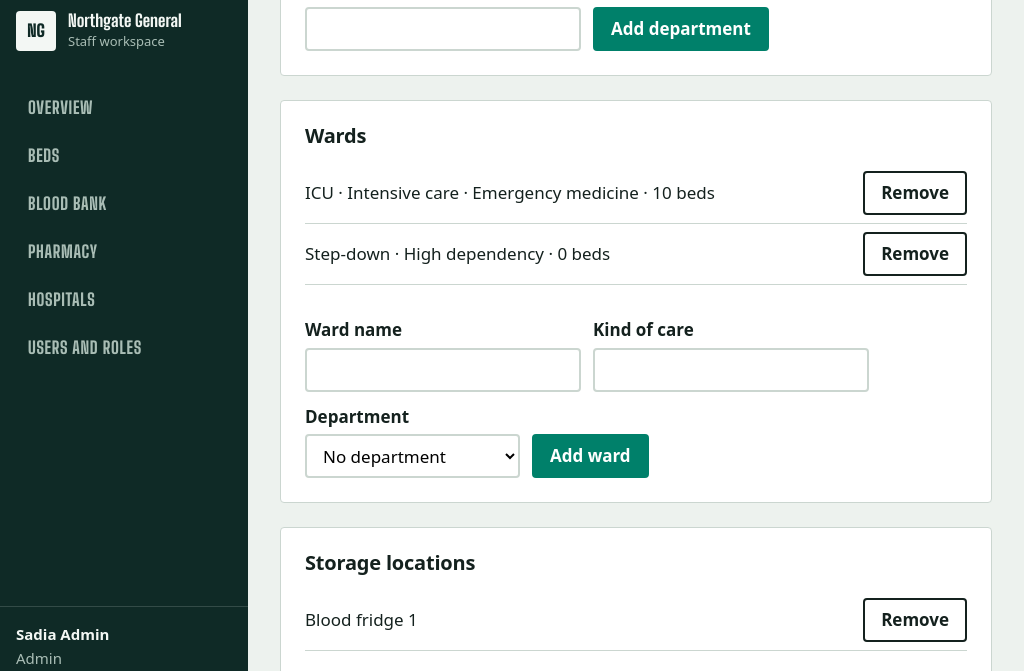
Test: HospitalDetailPage (stories 1.3 Hospital structure and capability profile) › sends the ward with its department and shows the server’s duplicate-name message on the field
(page scrolled)
Type "icu" into the field labelled "Ward name". click: (443, 370)
box: x1=305 y1=348 x2=581 y2=392
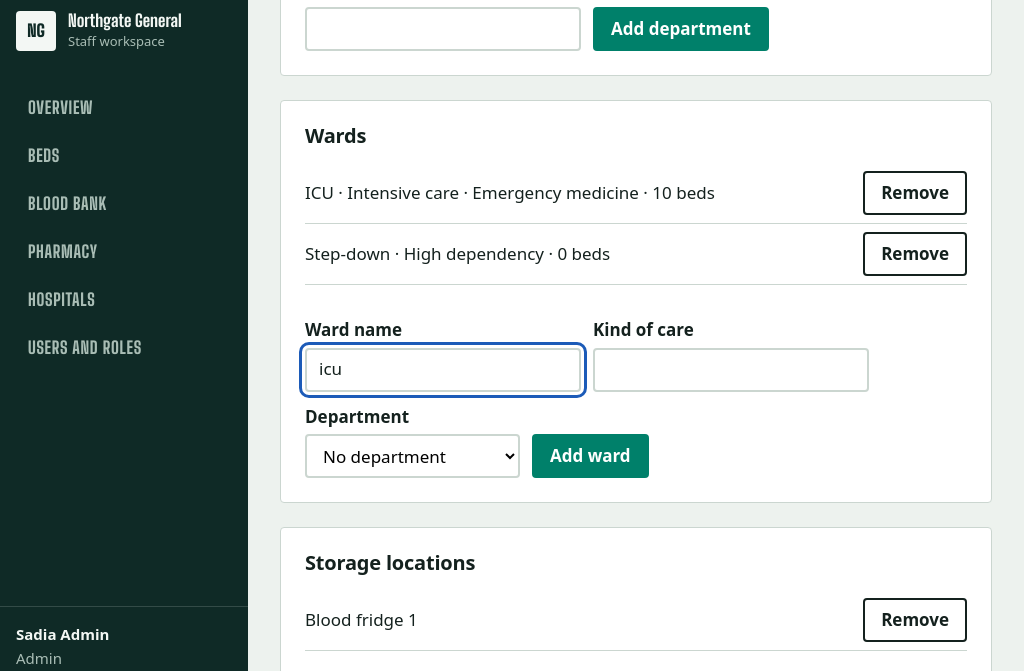
Type "Intensive care" into the field labelled "Kind of care". click: (731, 370)
box: x1=593 y1=348 x2=869 y2=392
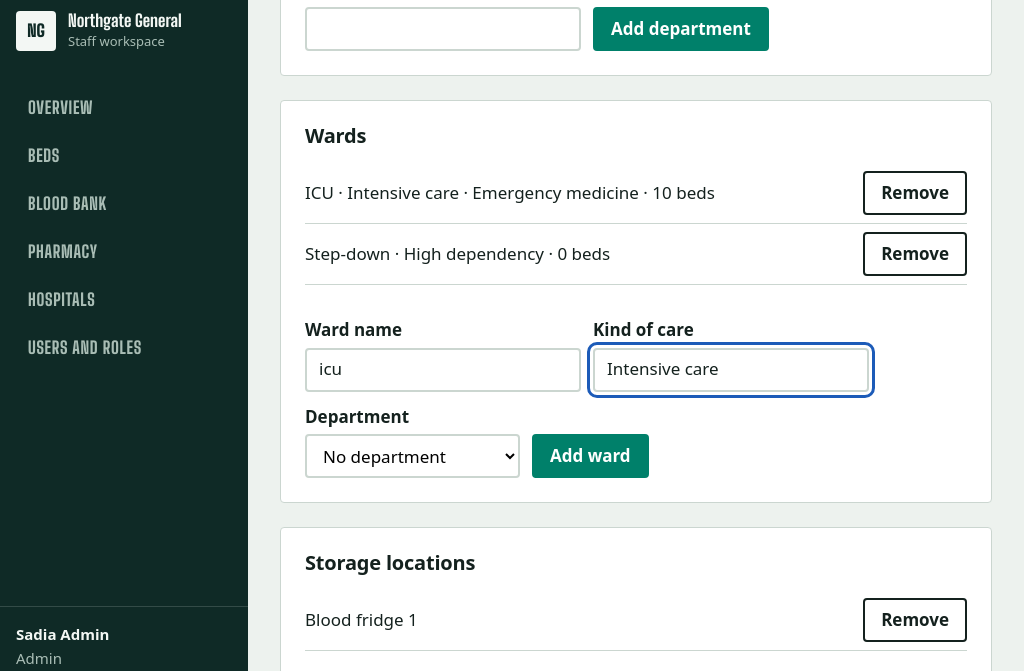
Select "Surgery" in the dropdown labelled "Department". click: (412, 456)
box: x1=305 y1=434 x2=520 y2=478
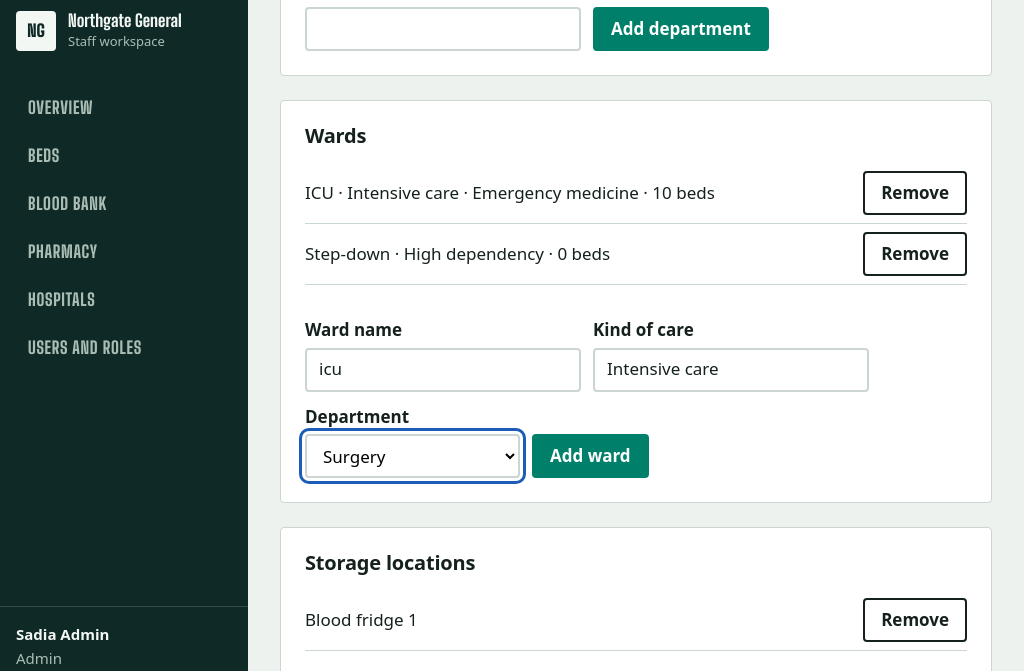
Click the button "Add ward". click: (590, 456)
box: x1=532 y1=434 x2=649 y2=478
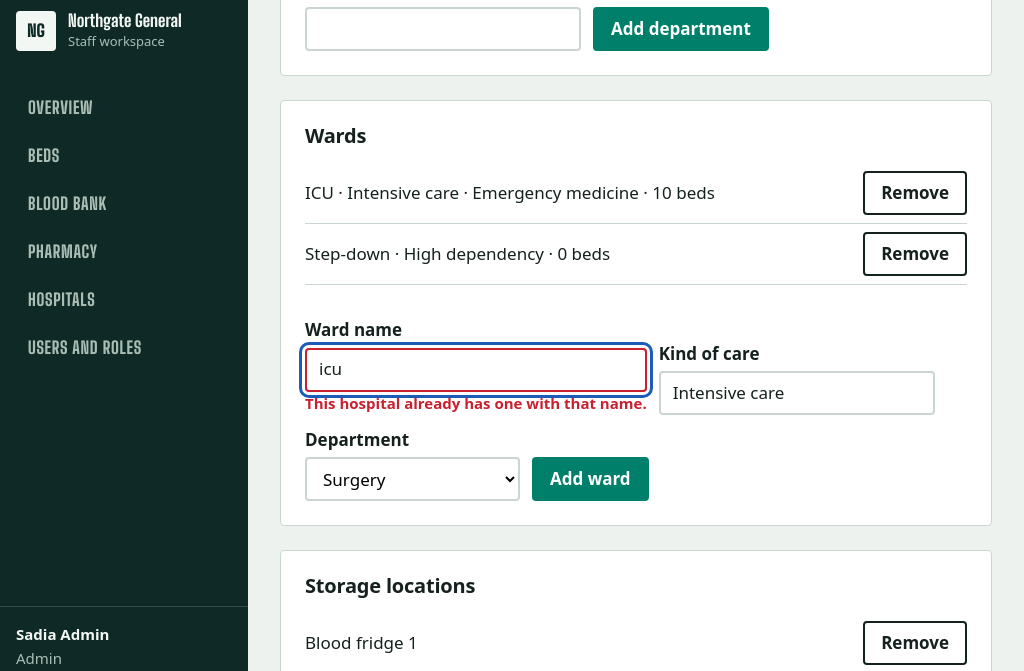
Now the text "This hospital already has one with that name." is shown, box x1=305 y1=392 x2=647 y2=415
